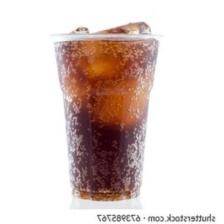glass: (42, 26, 166, 204)
